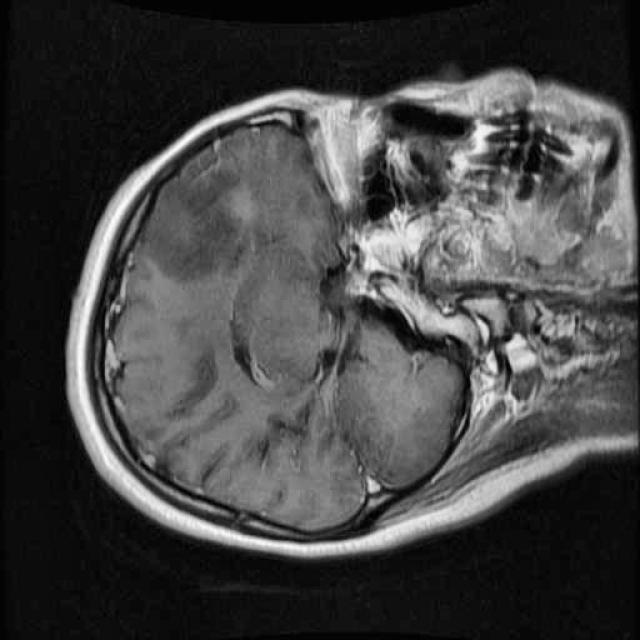Tumor: (130, 134, 260, 294)
